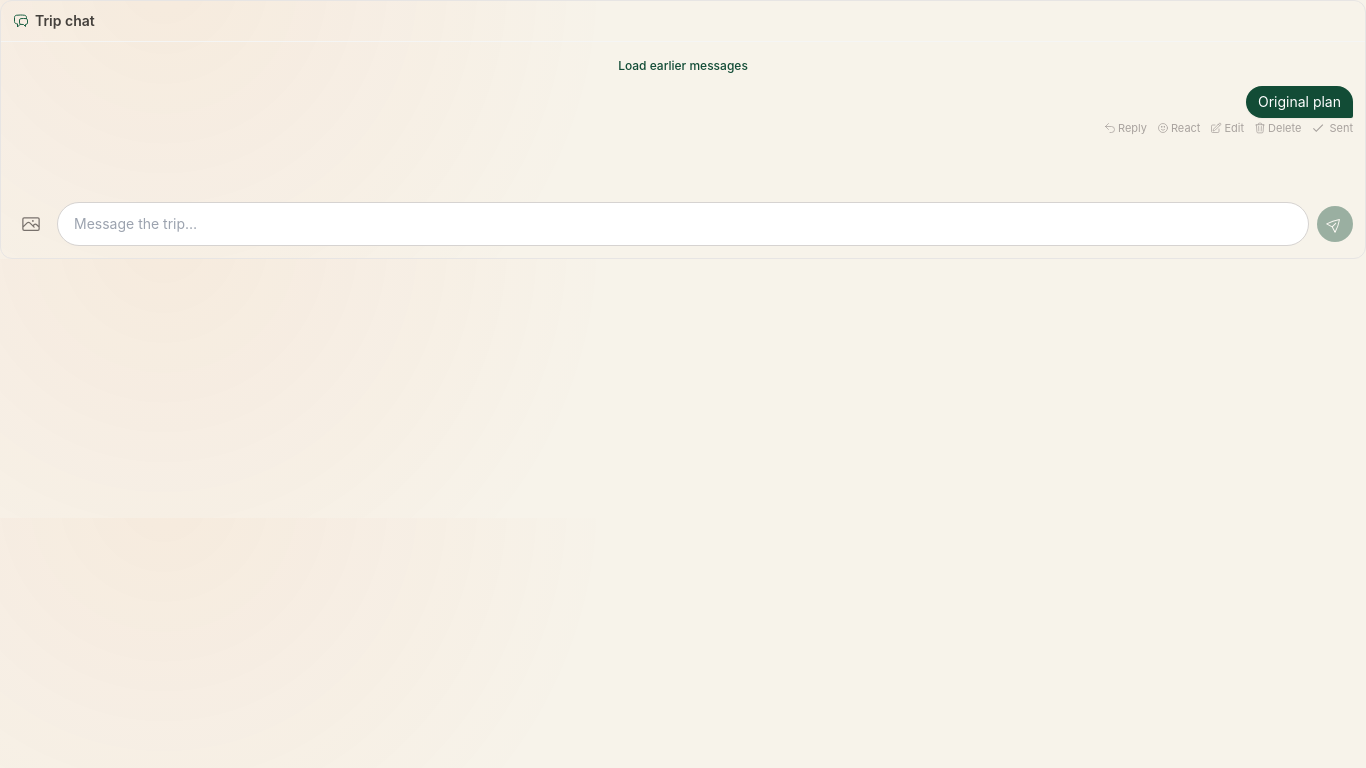
it: TripChatPanel › edits an own message inline and shows an "(edited)" marker afterward
Check: the text "Original plan" is shown, box [1258,93,1341,110]
Click the button "Edit": [1227, 128] box [1210,120,1244,136]
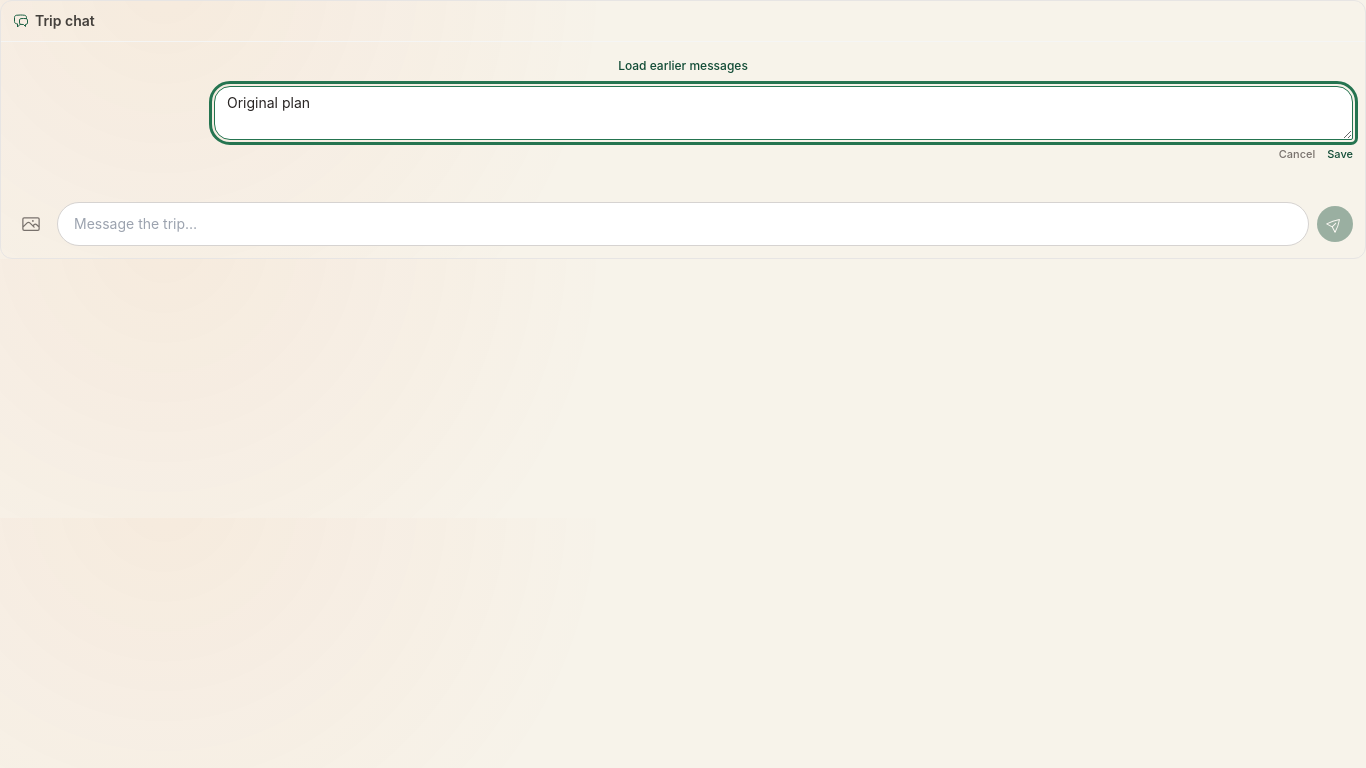
Replace the text in the text box showing "Original plan" with "Corrected plan": [784, 113] box [214,86,1353,140]
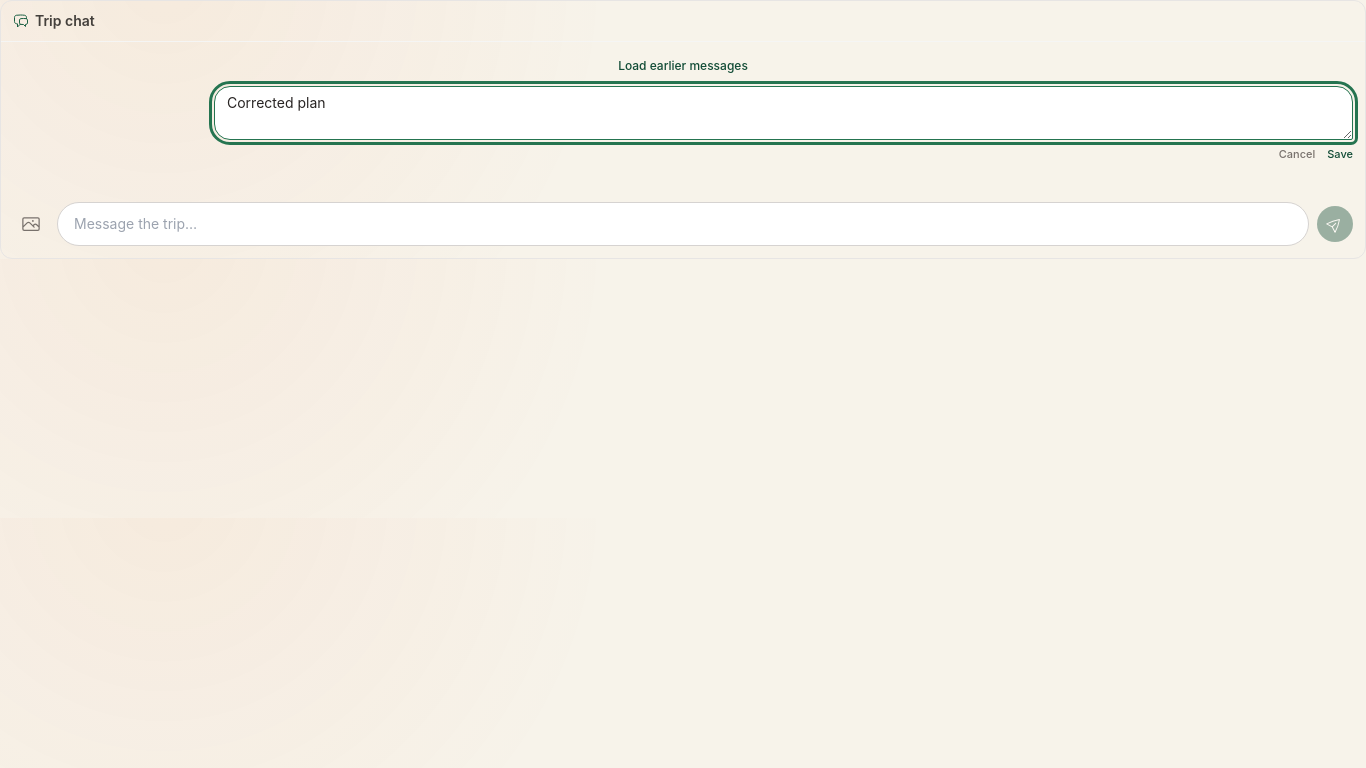
Click the button "Save": [1340, 154] box [1327,146,1353,162]
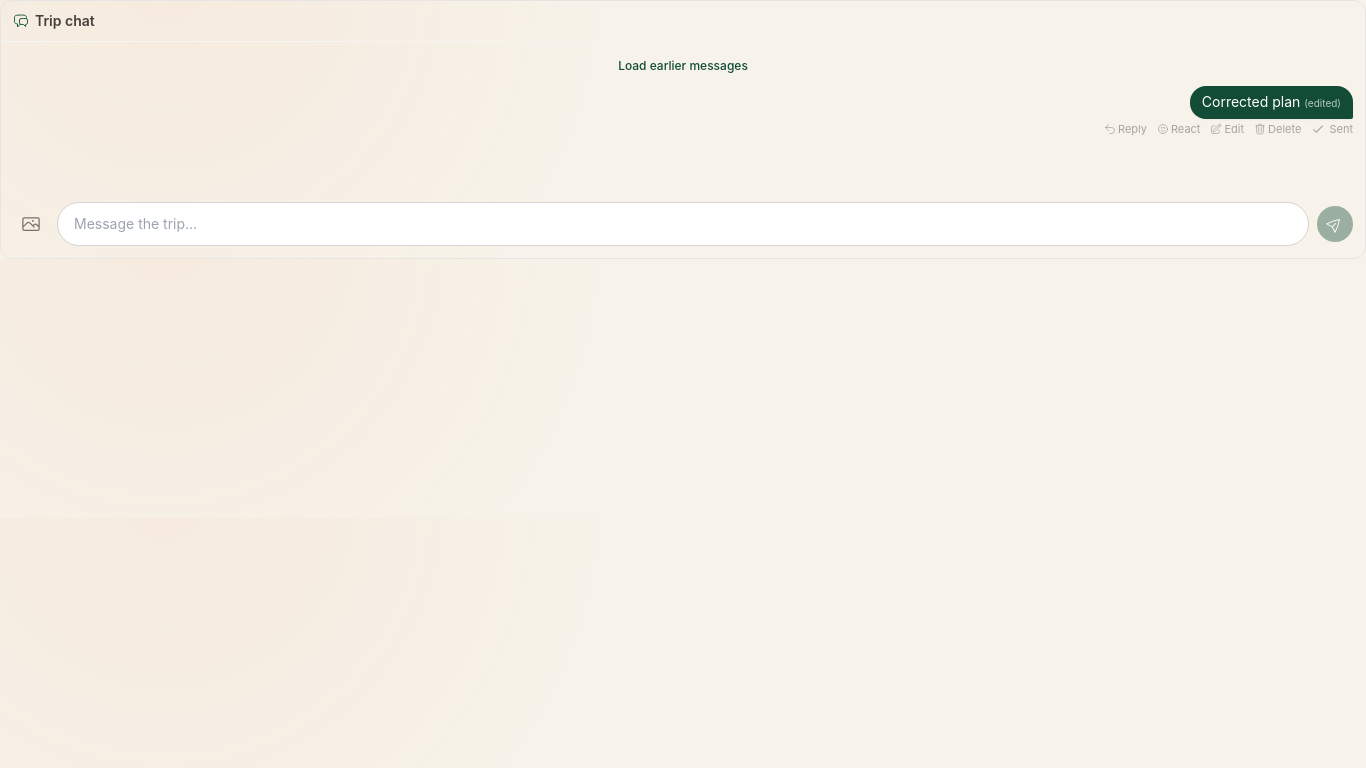
Check: the text "Corrected plan" is shown, box [1202,93,1300,110]
Check: the text "(edited)" is shown, box [1304,97,1341,109]
